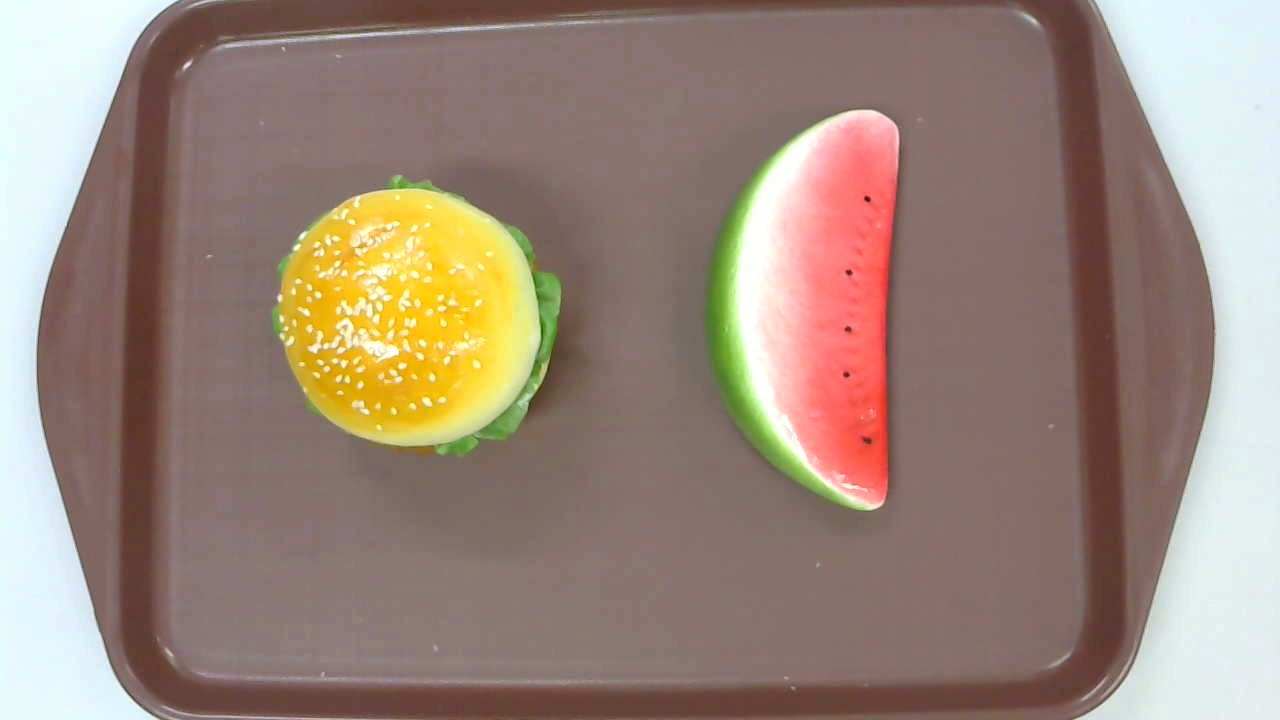hamburger: (269, 174, 563, 460)
water melon: (703, 109, 900, 512)
